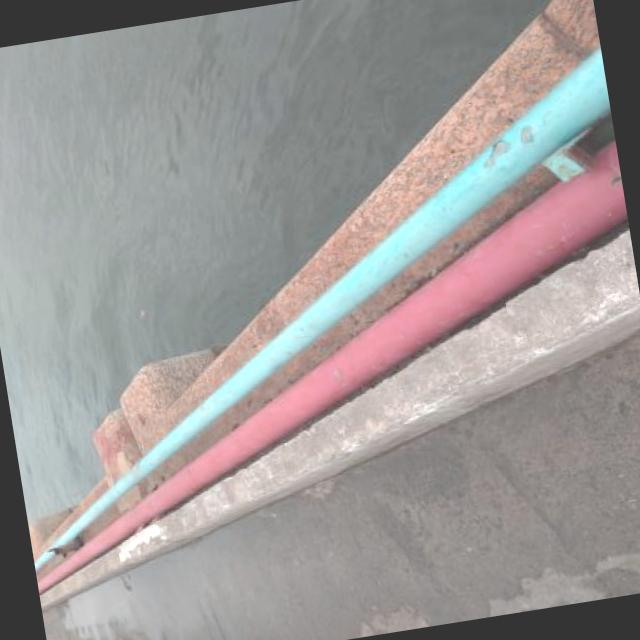gas: (36, 54, 610, 566), (39, 136, 627, 590)
